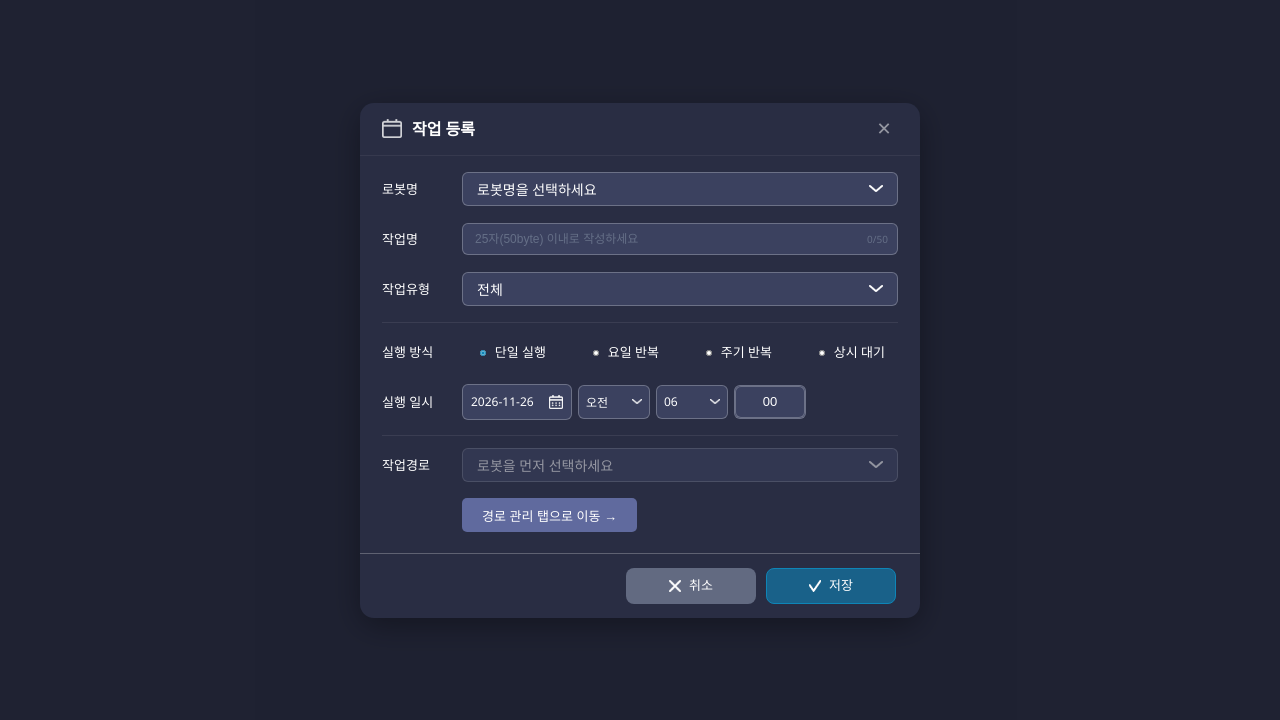
작업 등록 › 상시 대기 — 대기 장소 › 로봇의 맵을 모르면 이유를 보여 주고 막는다
Click the text "상시 대기".
click(859, 352)  # box top-left (834, 342), bottom-right (885, 361)
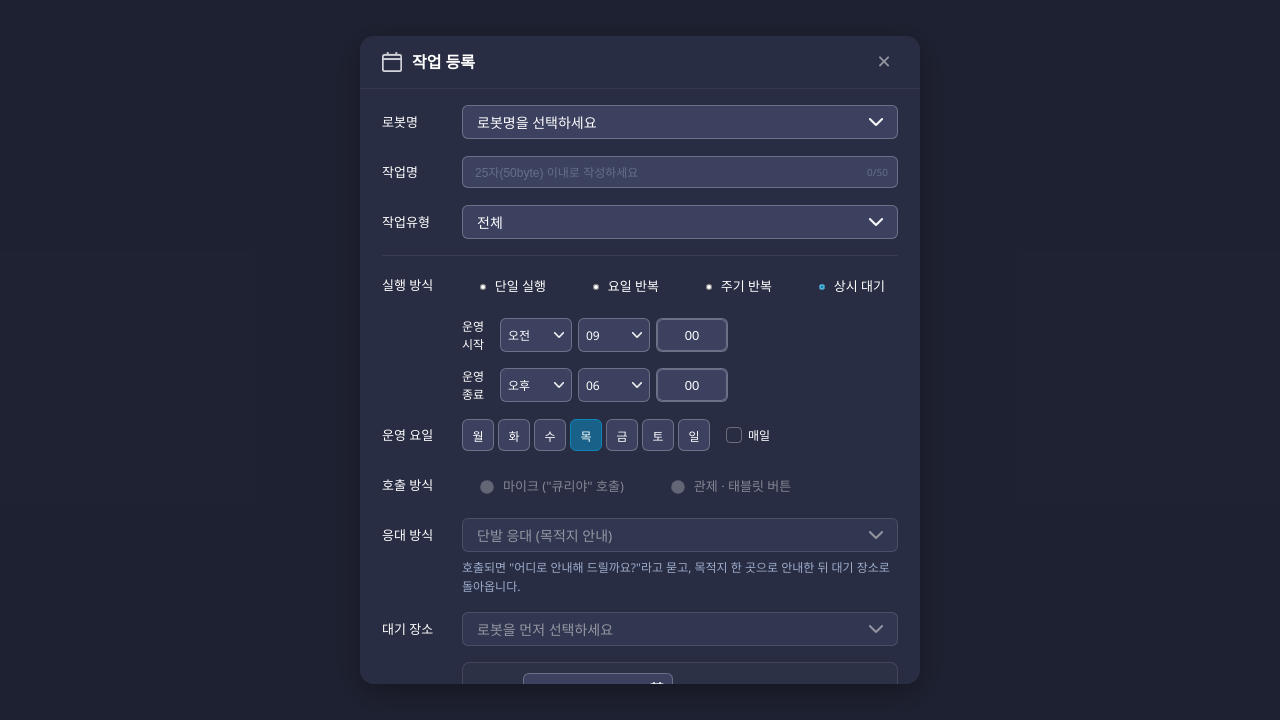
Click the text "로봇명을 선택하세요".
click(537, 122)  # box top-left (477, 113), bottom-right (597, 132)
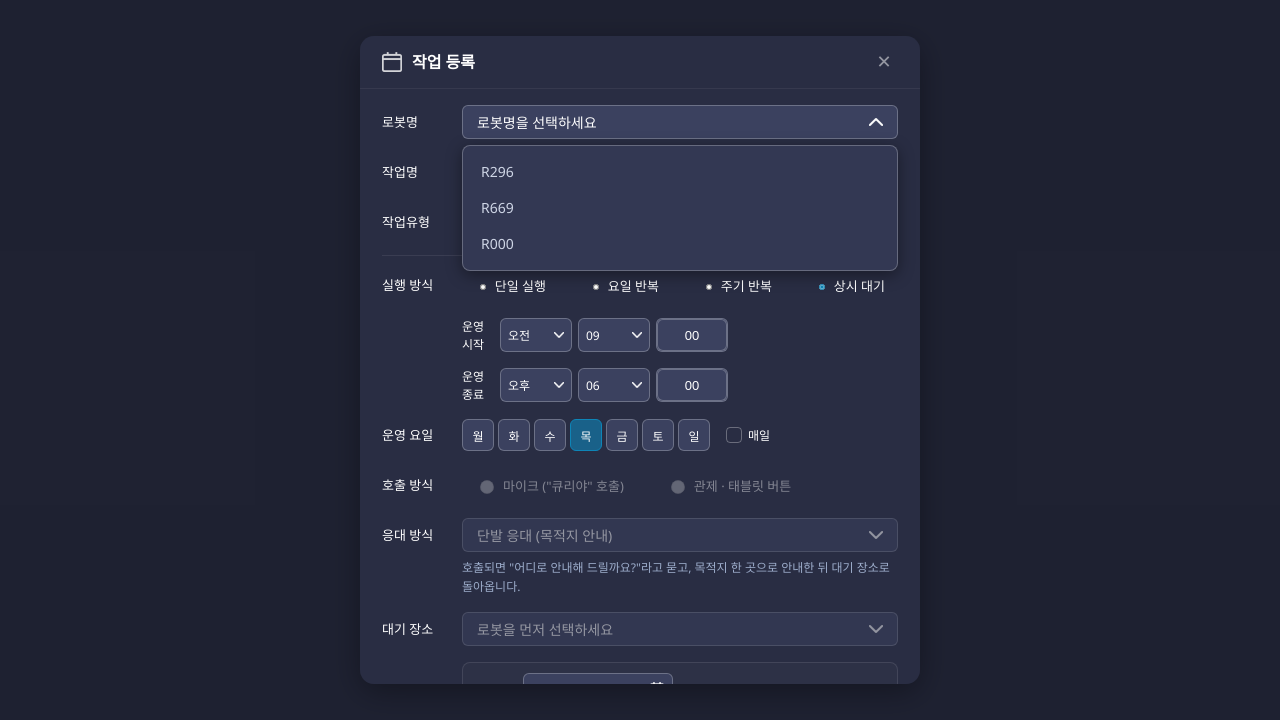
Click the option "R000".
click(497, 244)  # box top-left (481, 234), bottom-right (514, 253)
(page scrolled)
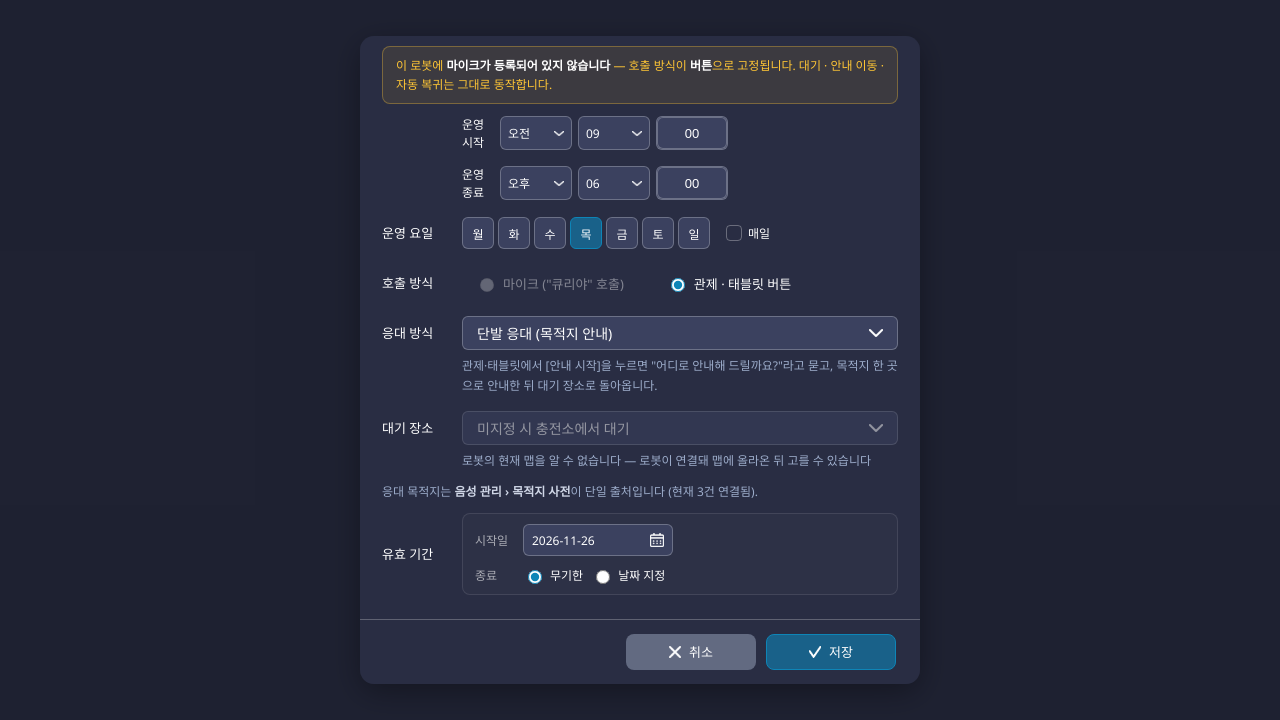
Expected: the text "로봇의 현재 맵을 알 수 없습니다 — 로봇이 연결돼 맵에 올라온 뒤 고를 수 있습니다" is shown, top-left (462, 451), bottom-right (898, 470)
